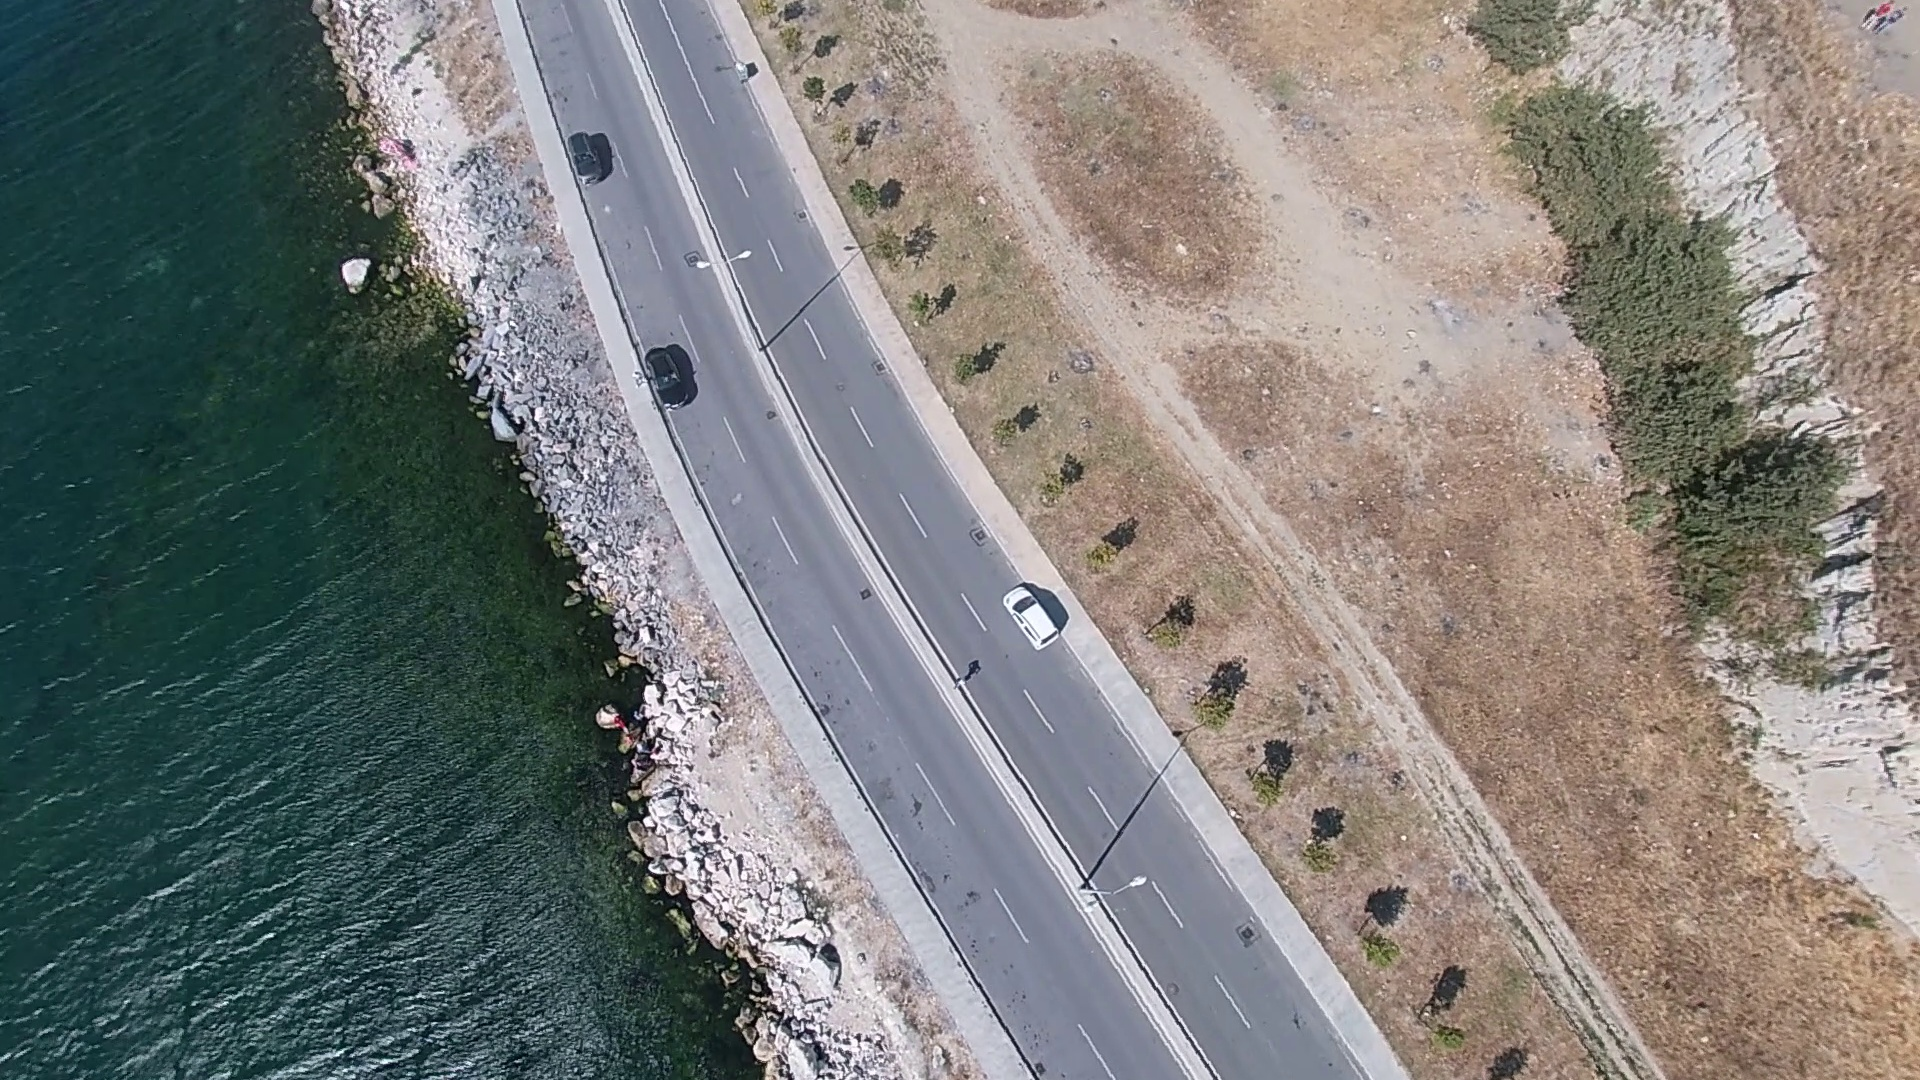arac: (999, 579, 1065, 652), (631, 334, 697, 402), (569, 123, 608, 192)
insan: (1864, 3, 1904, 35), (955, 665, 972, 697)
